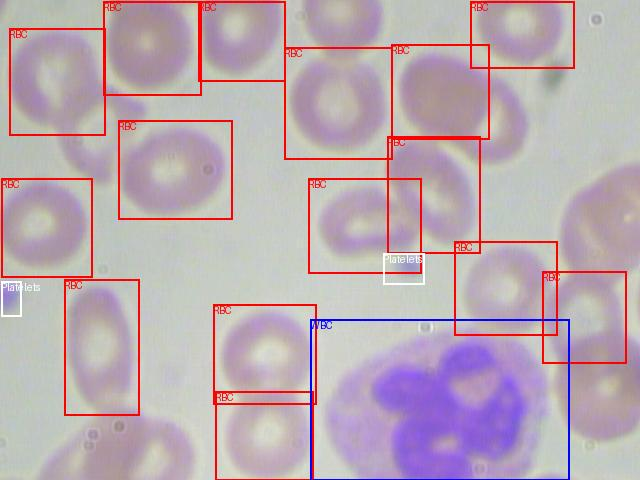Platelets: (383, 253, 424, 284), (1, 281, 21, 316)
RBC: (284, 47, 392, 159), (118, 120, 232, 219), (387, 136, 480, 253), (308, 178, 421, 273), (213, 304, 316, 404), (9, 28, 105, 135), (64, 279, 139, 415), (454, 241, 557, 335), (391, 44, 489, 139), (103, 1, 201, 95), (1, 178, 92, 277), (215, 391, 313, 480), (542, 271, 626, 363), (470, 1, 574, 68), (198, 1, 285, 81)
WBC: (310, 319, 569, 480)
